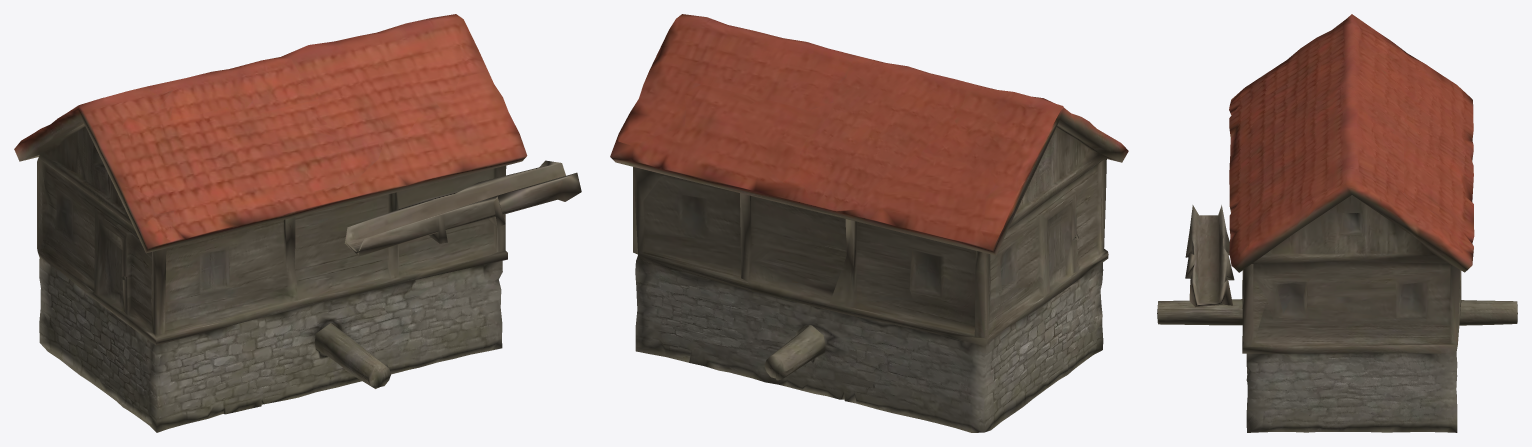
File: degirmen.glb
3 views of the same model, side by side, from view 1: azimuth 30°, elevation 25°; view 2: azimuth 150°, elevation 25°; view 3: azimuth 270°, elevation 25° (orthographic). The views are drawn at different scales.
Parts seen in each view (by area): view 1: tripo_node_6884db1a-4f3a-4ac6-990f-394720377ef6; view 2: tripo_node_6884db1a-4f3a-4ac6-990f-394720377ef6; view 3: tripo_node_6884db1a-4f3a-4ac6-990f-394720377ef6.
Boxes of the visible parts, x1,y1,x2,y2 form: tripo_node_6884db1a-4f3a-4ac6-990f-394720377ef6: (14, 14, 581, 432); tripo_node_6884db1a-4f3a-4ac6-990f-394720377ef6: (610, 14, 1128, 432); tripo_node_6884db1a-4f3a-4ac6-990f-394720377ef6: (1157, 14, 1517, 432).
Size of the model in its own units: 0.9777 by 0.6554 by 0.8198.
Materials: 1 (1 with a texture image).
